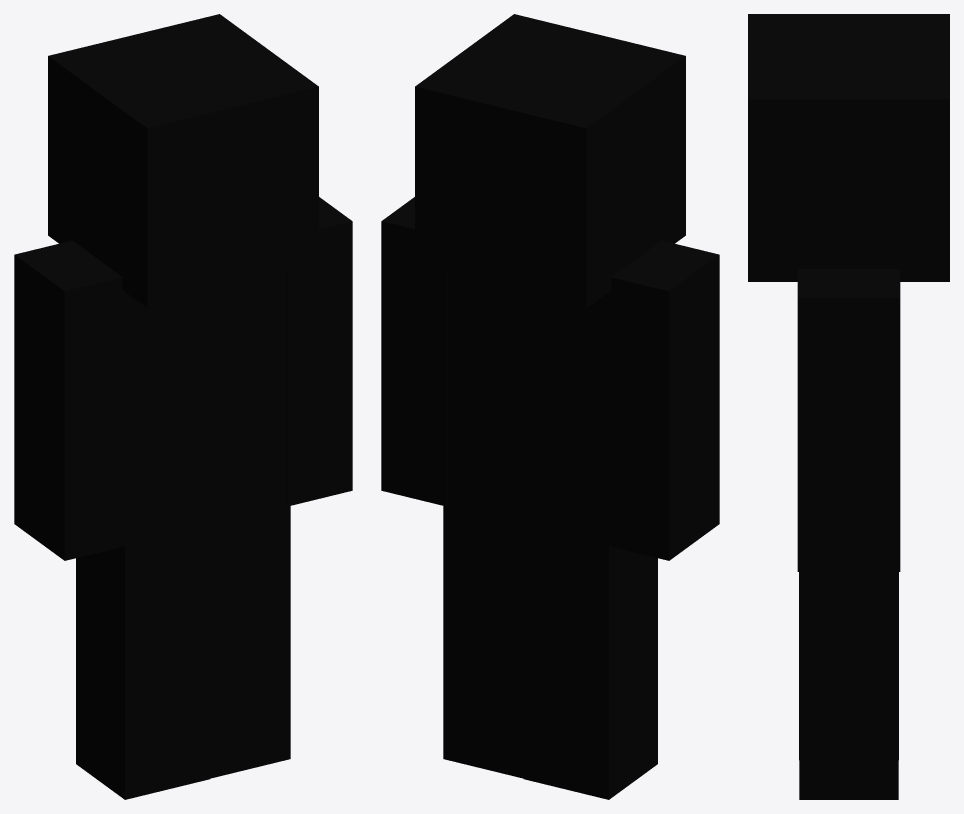
Rendered from mainPlayerSlim_out.glb.
3 renders of one model, left to right at view 1: azimuth 30°, elevation 25°; view 2: azimuth 150°, elevation 25°; view 3: azimuth 270°, elevation 25°, orthographic.
Parts seen in each view (by area): view 1: outer_head, outer_chest, outer_RA, outer_RL, outer_LL, outer_LA; view 2: outer_head, outer_chest, outer_RA, outer_RL, outer_LL, outer_LA; view 3: outer_head, outer_LA, outer_LL, outer_RL.
Boxes of the visible parts, left/top/right/bottom form: outer_head: left=48, top=14, right=318, bottom=307; outer_chest: left=130, top=274, right=286, bottom=544; outer_RA: left=14, top=240, right=129, bottom=560; outer_RL: left=76, top=525, right=210, bottom=799; outer_LL: left=210, top=506, right=290, bottom=778; outer_LA: left=286, top=197, right=352, bottom=506; outer_head: left=415, top=14, right=685, bottom=307; outer_chest: left=447, top=274, right=603, bottom=544; outer_RA: left=604, top=240, right=719, bottom=560; outer_RL: left=523, top=525, right=657, bottom=799; outer_LL: left=443, top=506, right=523, bottom=778; outer_LA: left=381, top=197, right=447, bottom=506; outer_head: left=748, top=14, right=949, bottom=281; outer_LA: left=797, top=269, right=900, bottom=571; outer_LL: left=799, top=572, right=898, bottom=799; outer_RL: left=799, top=572, right=898, bottom=759.
Size of the model in its own units: 2.31 by 5.3 by 1.38.
1 material, 1 textured.
